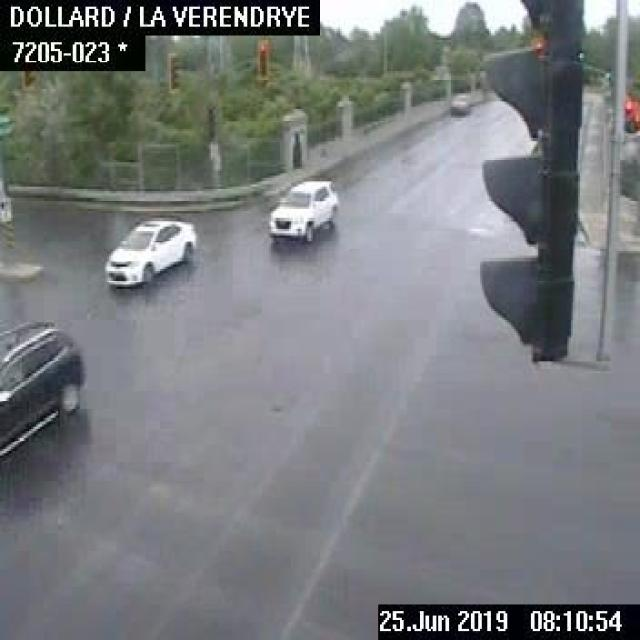vehicle: (0, 313, 87, 462), (104, 213, 198, 289), (267, 176, 338, 242), (445, 91, 471, 116)
